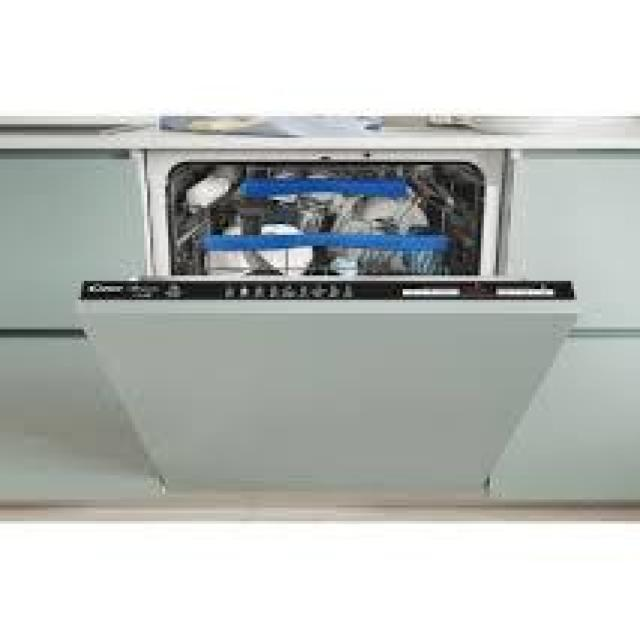dishwasher: (66, 140, 580, 497)
